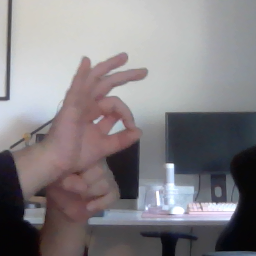OE: (48, 51, 152, 220)
